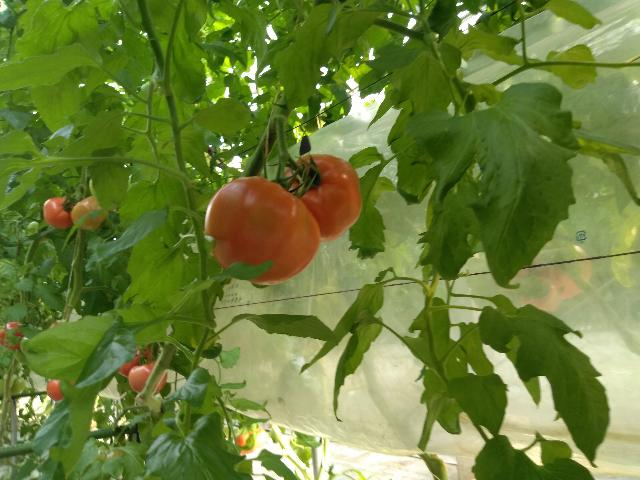b_fully_ripened: (277, 154, 363, 243), (117, 345, 152, 378), (43, 197, 74, 229)
b_half_ripened: (204, 176, 321, 286), (70, 196, 108, 232), (128, 361, 167, 393)
